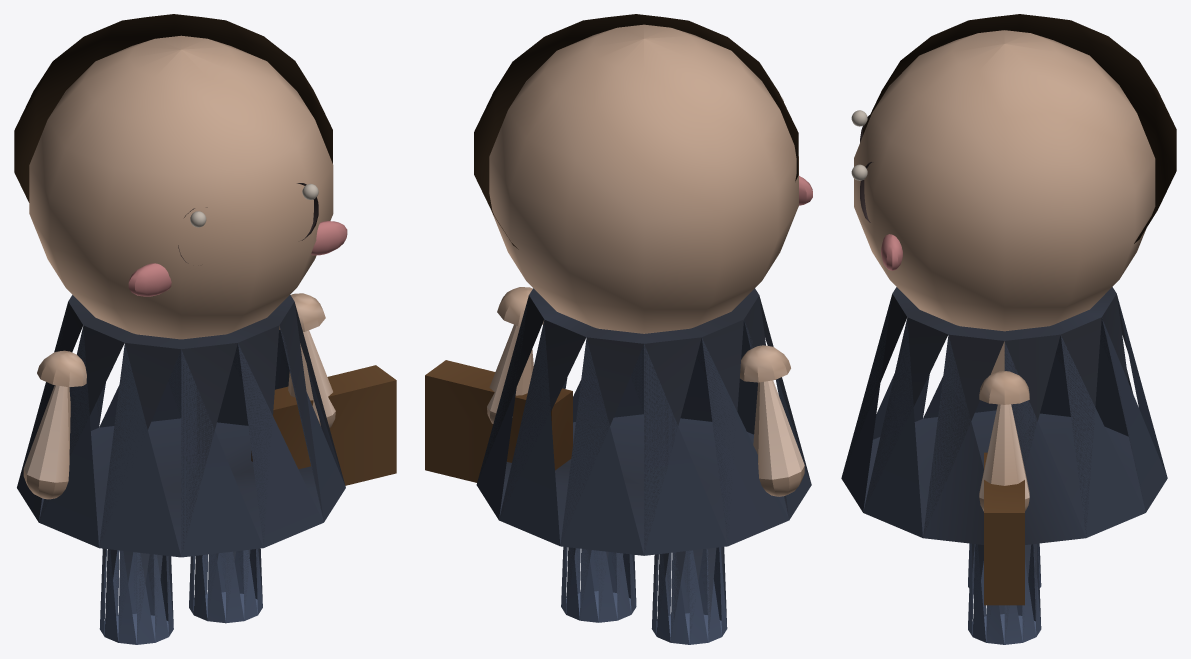
3 views of the same model, side by side, from view 1: azimuth 30°, elevation 25°; view 2: azimuth 150°, elevation 25°; view 3: azimuth 270°, elevation 25° (orthographic). The views are drawn at different scales.
Visible parts, largest first — view 1: pet_pa86bd221; view 2: pet_pa86bd221; view 3: pet_pa86bd221.
Boxes of the visible parts, bbox=[...] form: pet_pa86bd221: bbox=[14, 14, 396, 644]; pet_pa86bd221: bbox=[425, 14, 812, 644]; pet_pa86bd221: bbox=[841, 14, 1176, 644].
Bounding box in the file's own units: 0.4032 × 0.625 × 0.3287.
